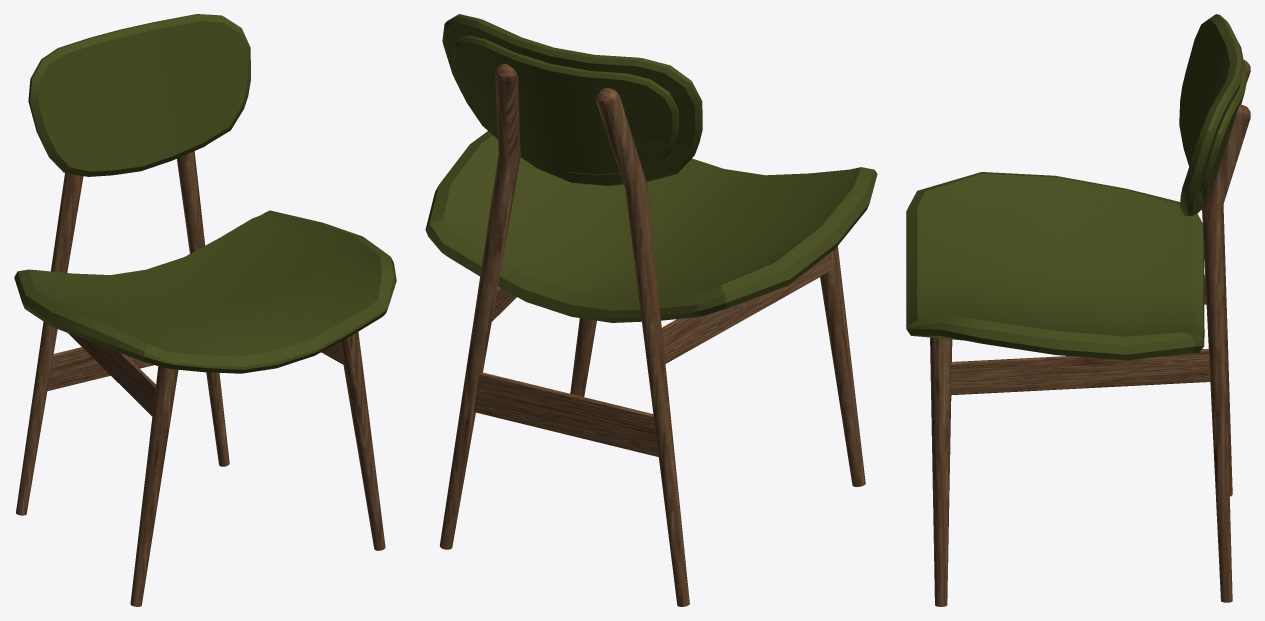
File: LC_3055_chair_h_LOD3.fbx
The picture shows the model from 3 angles, left to right: view 1: azimuth 30°, elevation 25°; view 2: azimuth 150°, elevation 25°; view 3: azimuth 270°, elevation 25°; orthographic projection. The views are drawn at different scales.
Visible parts, largest first — view 1: LC_3055_ch_LOD3; view 2: LC_3055_ch_LOD3; view 3: LC_3055_ch_LOD3.
Boxes of the visible parts, left/top/right/bottom form: LC_3055_ch_LOD3: left=14, top=14, right=396, bottom=606; LC_3055_ch_LOD3: left=425, top=14, right=877, bottom=606; LC_3055_ch_LOD3: left=906, top=14, right=1250, bottom=606.
Size of the model in its own units: 51.94 by 71.4 by 45.15.
1 material, 1 textured.
